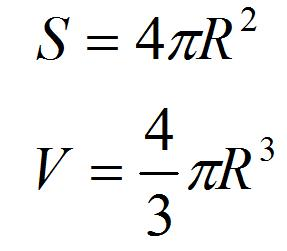cube: (256, 130, 275, 164)
division: (137, 168, 180, 178)
